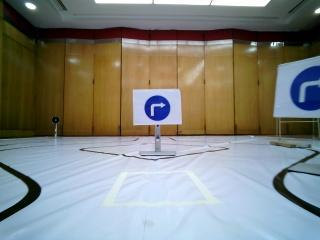right: (279, 64, 320, 118), (134, 90, 180, 123)
